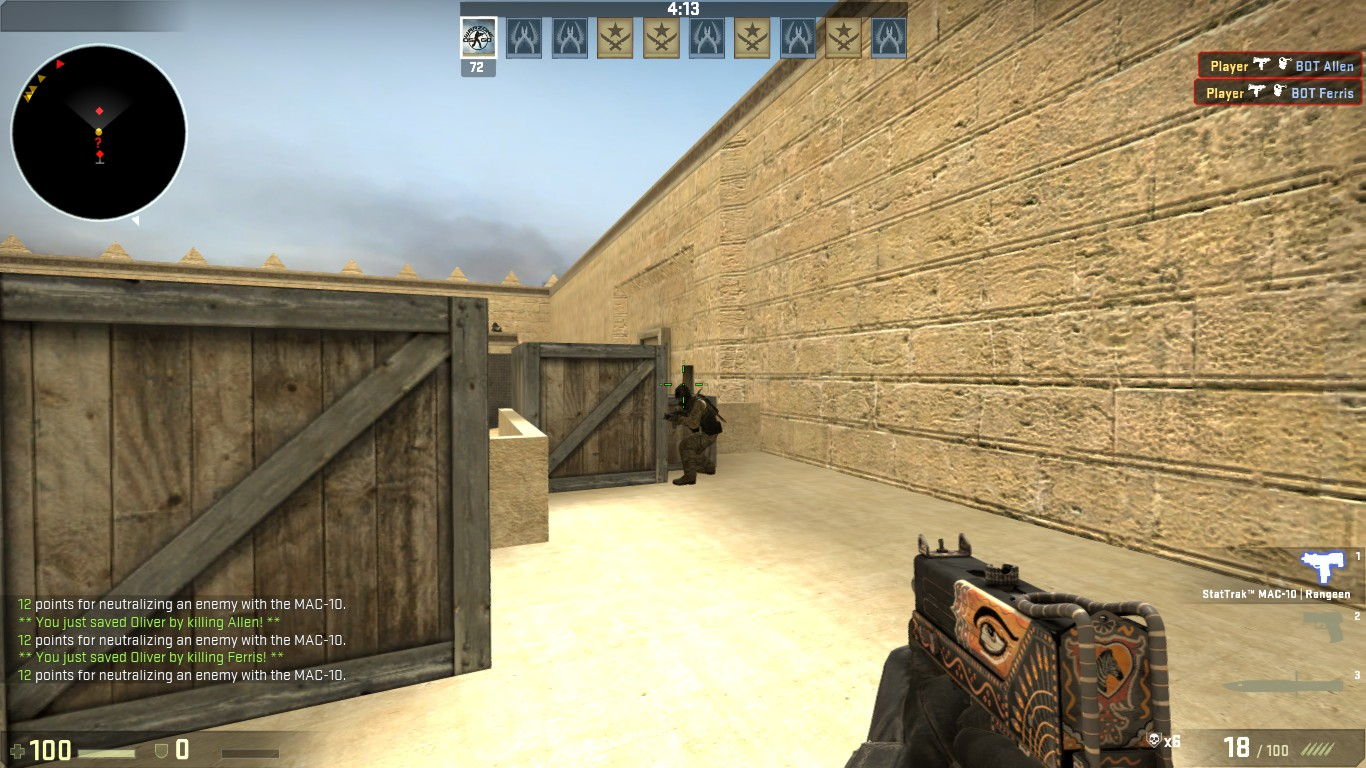c: (665, 382, 723, 486)
ch: (674, 382, 695, 408)
